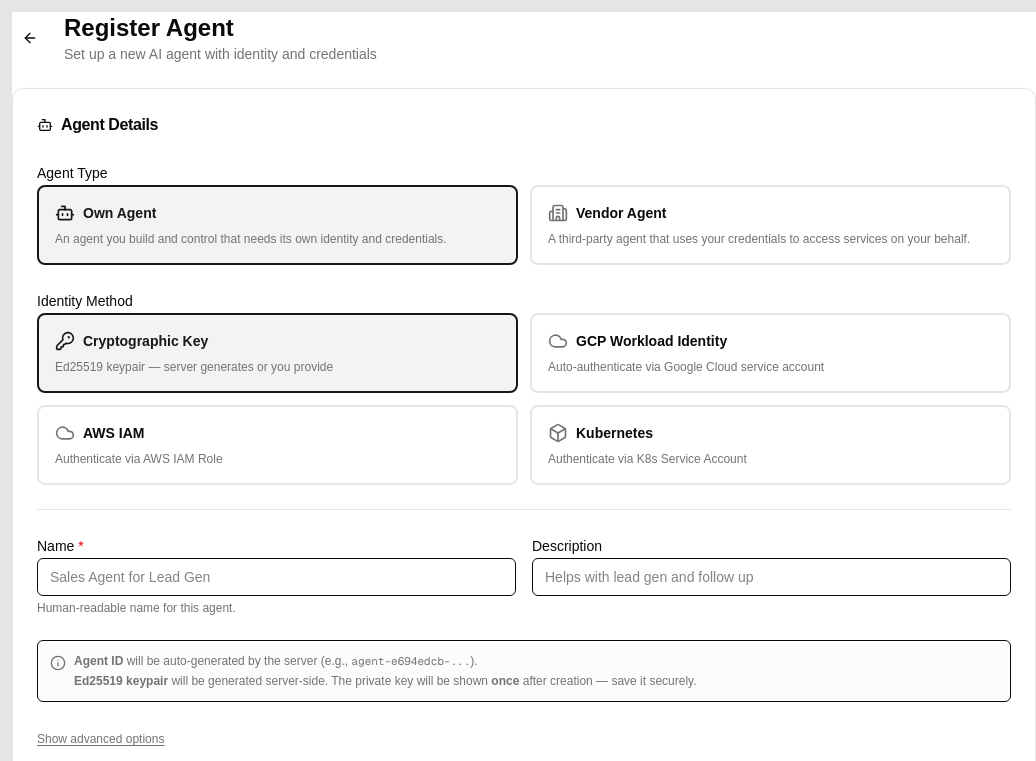
Test: AgentCreatePage › IdentityMethodSelector › shows GCP service account input when GCP is selected
This screenshot has width=1036, height=761.
Click the text "GCP Workload Identity". click: (652, 341)
box: left=576, top=331, right=727, bottom=351
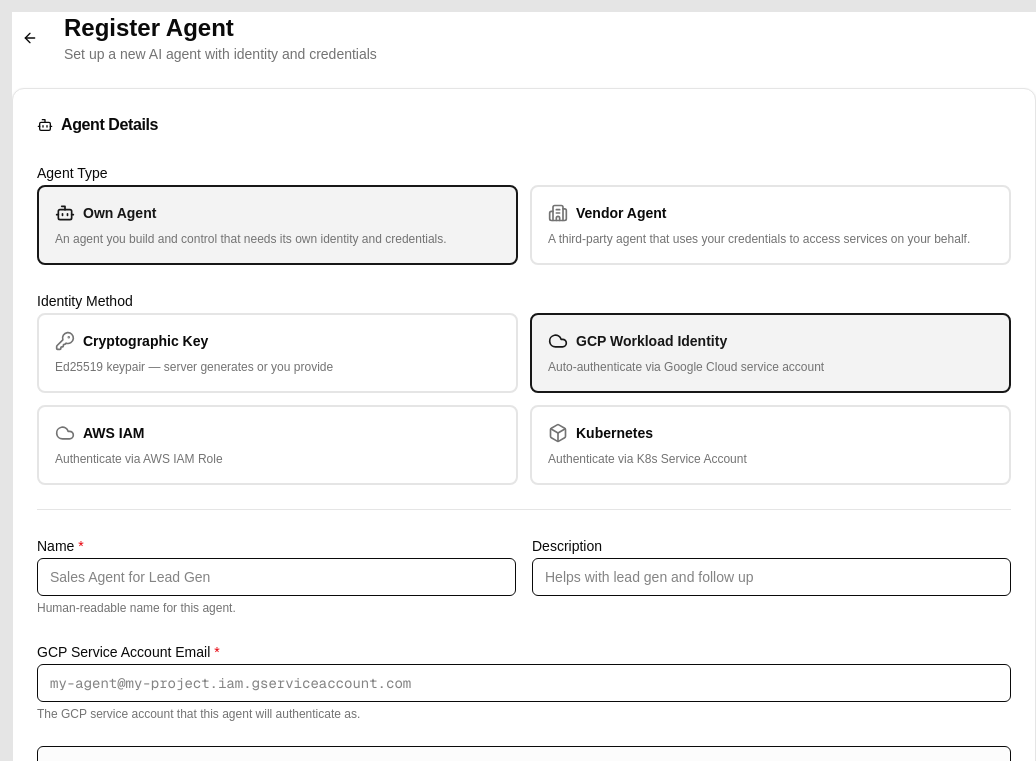
Now the field with placeholder "my-agent@my-project.iam.gserviceaccount.com" is shown, box left=37, top=664, right=1011, bottom=702
